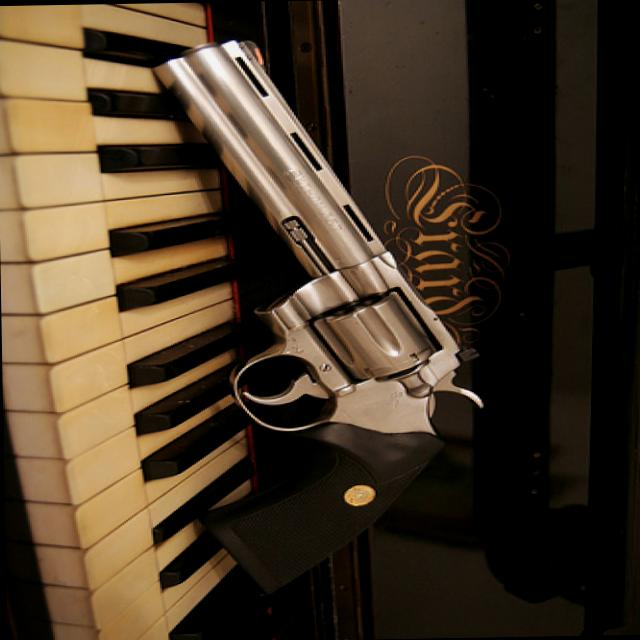handgun: (153, 32, 489, 596)
